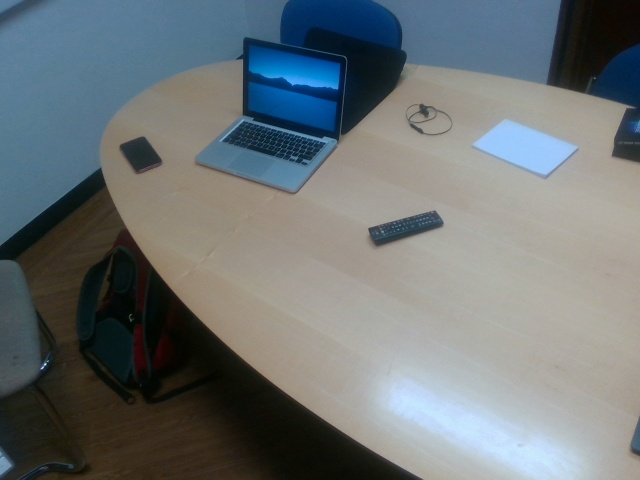remote: (367, 211, 445, 245)
